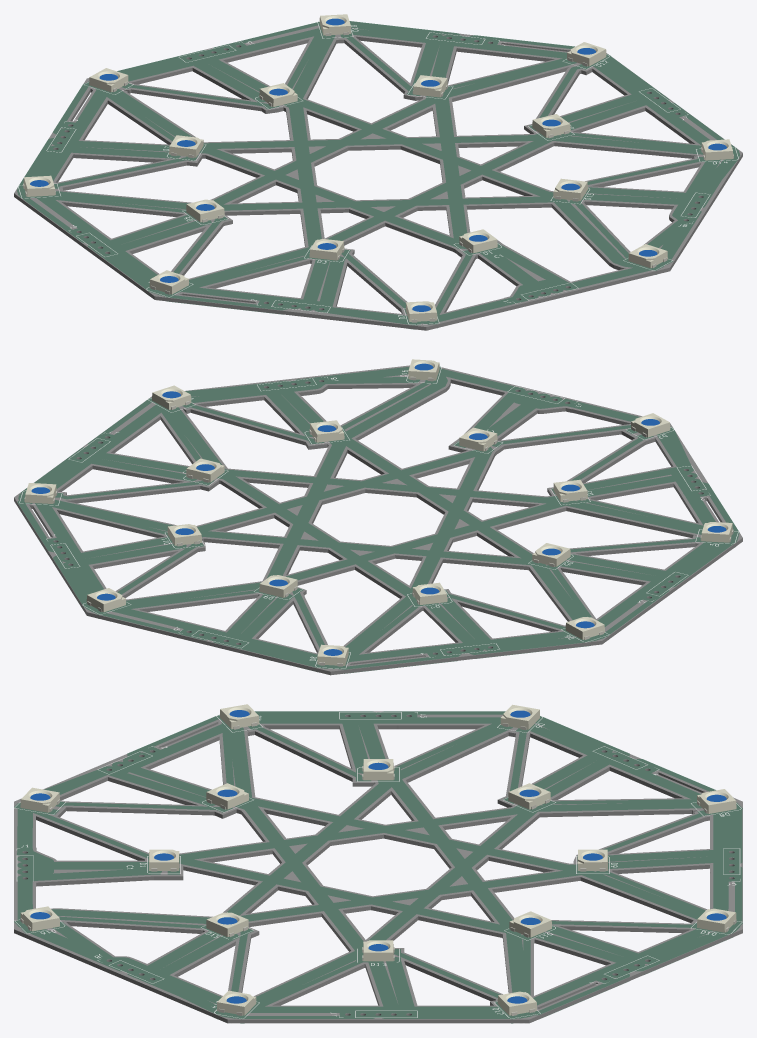
The picture shows the model from 3 angles, top to bottom: view 1: azimuth 30°, elevation 25°; view 2: azimuth 150°, elevation 25°; view 3: azimuth 270°, elevation 25°; orthographic projection. The views are drawn at different scales.
Parts seen in each view (by area): view 1: =>[0:1:1:5], =>[0:1:1:4], =>[0:1:1:3], D16, D8, D12, D4, D9, D13, D5, D1, D11 (+7 smaller); view 2: =>[0:1:1:5], =>[0:1:1:4], =>[0:1:1:3], D14, D1, D2, D10, D6, D13, D5, D9, D3 (+7 smaller); view 3: =>[0:1:1:5], =>[0:1:1:4], =>[0:1:1:3], D7, D15, D3, D11, D2, D4, D6, D14, D16 (+7 smaller).
Boxes of the visible parts, x1,y1,x2,y2 form: =>[0:1:1:5]: (14,22,742,330); =>[0:1:1:4]: (17,21,740,329); =>[0:1:1:3]: (18,21,742,324); D16: (628,244,667,268); D8: (89,68,128,92); D12: (567,42,606,66); D4: (149,270,188,294); D9: (259,83,297,106); D13: (532,114,570,138); D5: (186,199,224,222); D1: (459,229,497,253); D11: (412,75,447,97); =>[0:1:1:5]: (14,365,742,675); =>[0:1:1:4]: (17,366,739,673); =>[0:1:1:3]: (19,367,739,675); D14: (152,385,191,409); D1: (459,427,497,451); D2: (631,413,670,437); D10: (86,588,125,612); D6: (565,617,604,639); D13: (186,458,224,482); D5: (532,543,570,566); D9: (259,575,297,597); D3: (553,479,587,502); =>[0:1:1:5]: (14,711,742,1023); =>[0:1:1:4]: (14,711,742,1023); =>[0:1:1:3]: (14,712,742,1023); D7: (508,783,550,809); D15: (206,912,248,937); D3: (206,783,248,809); D11: (509,911,551,937); D2: (20,787,59,812); D4: (220,704,259,729); D6: (500,704,539,730); D14: (217,990,256,1015); D16: (20,906,59,931).
Size of the model in its own units: 0.1207 by 0.00257 by 0.1207.
